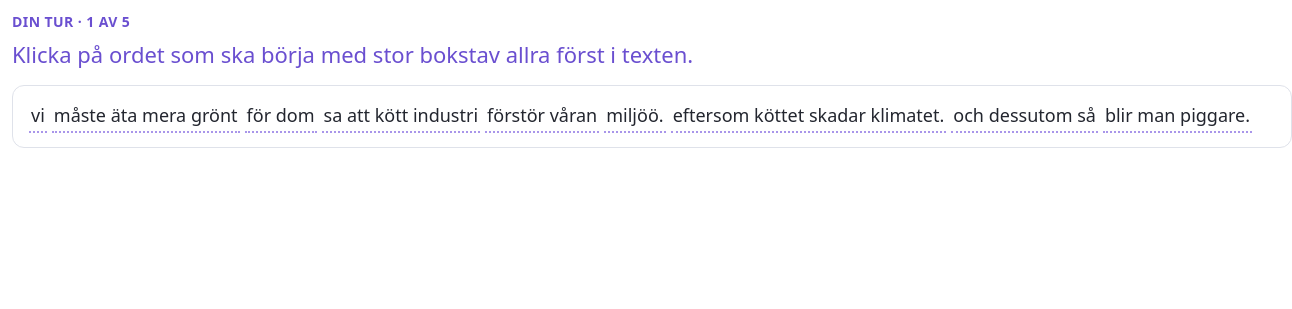
error hunt on the whiteboard › lets the student move on after two tries or when the service fails
Click the button "måste äta mera grönt".
click(146, 116)  # box x1=52 y1=100 x2=240 y2=133
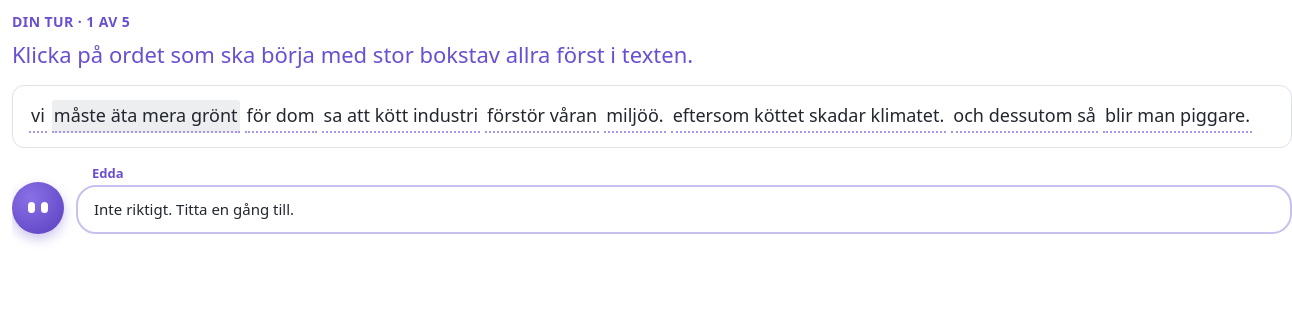
Expected: the button "Nästa fel" is not shown
Result: the text "Inte riktigt. Titta en gång till." is shown at x1=94 y1=199 x2=294 y2=220
Click the button "blir man piggare.".
click(1178, 116)  # box x1=1103 y1=100 x2=1252 y2=133
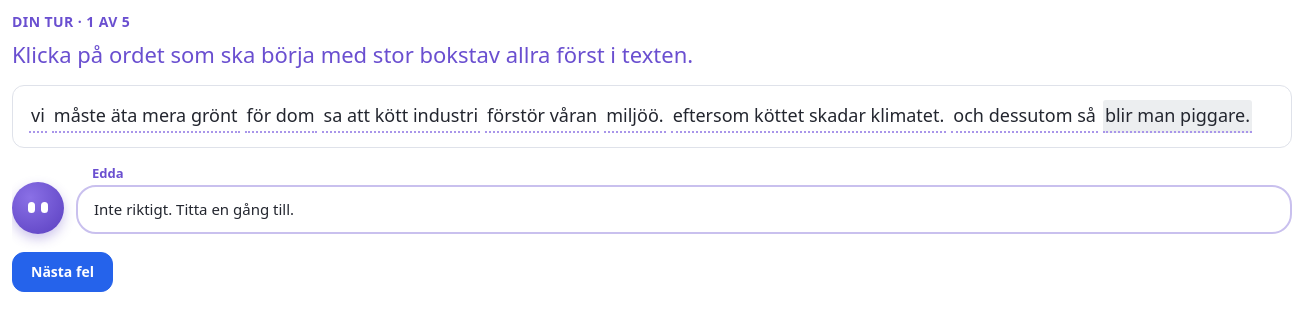
Result: the button "Nästa fel" is shown
Click the button "Nästa fel".
click(62, 272)  # box x1=12 y1=252 x2=113 y2=292
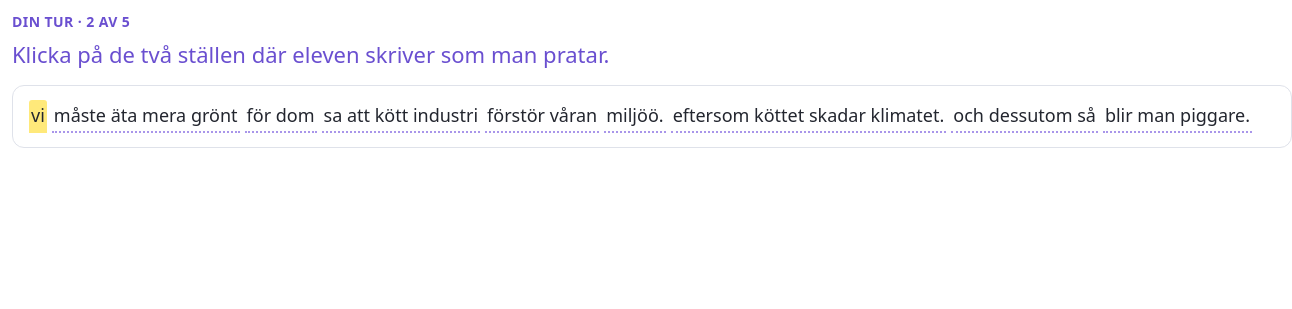
Click the button "måste äta mera grönt".
click(146, 116)  # box x1=52 y1=100 x2=240 y2=133
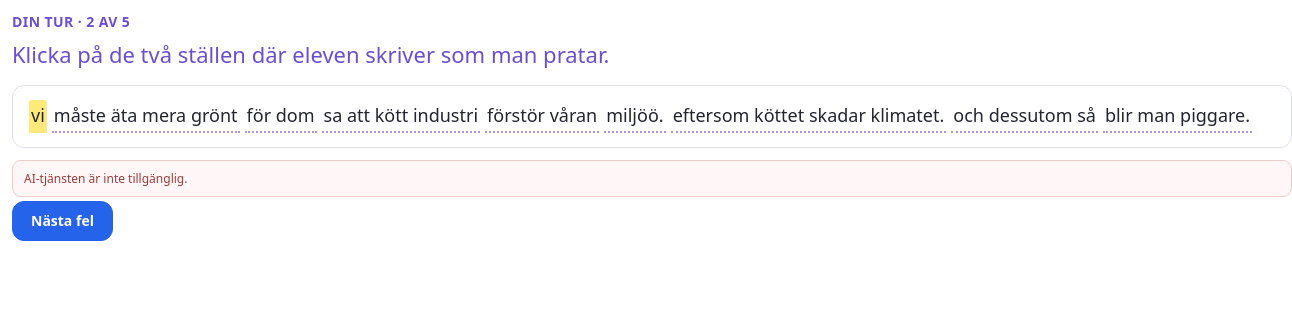
Result: the message reads "AI-tjänsten är inte tillgänglig." at x1=24 y1=170 x2=187 y2=187
Result: the button "Nästa fel" is shown at x1=12 y1=201 x2=113 y2=241
